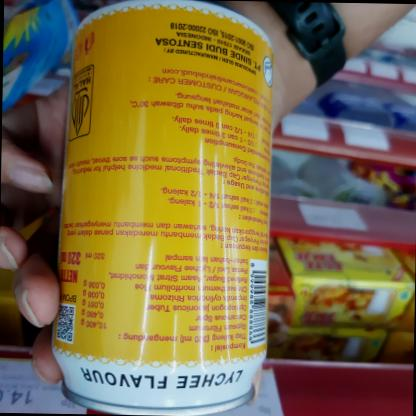alumunium_can: (48, 1, 289, 416)
